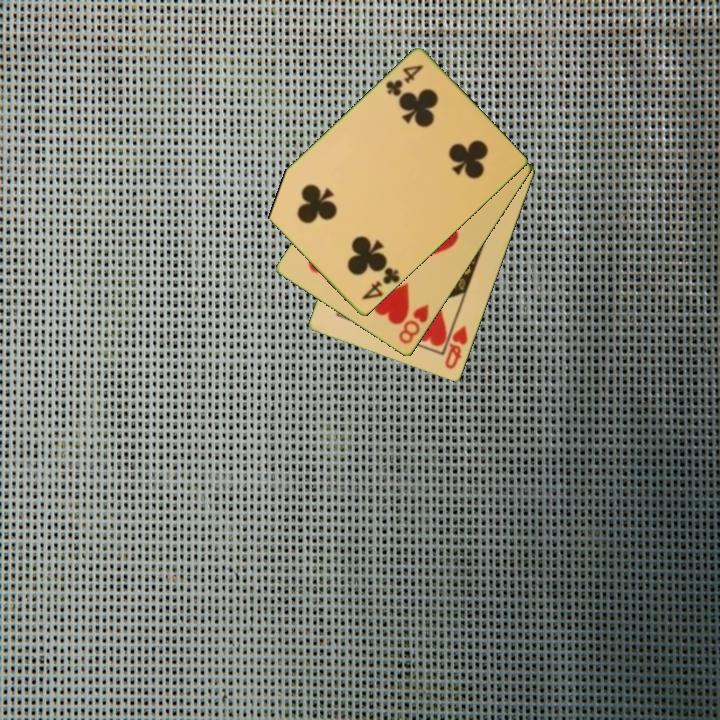4c: (358, 264, 403, 303), (382, 61, 426, 100)
8h: (395, 301, 432, 347)
Qh: (441, 322, 471, 372)
